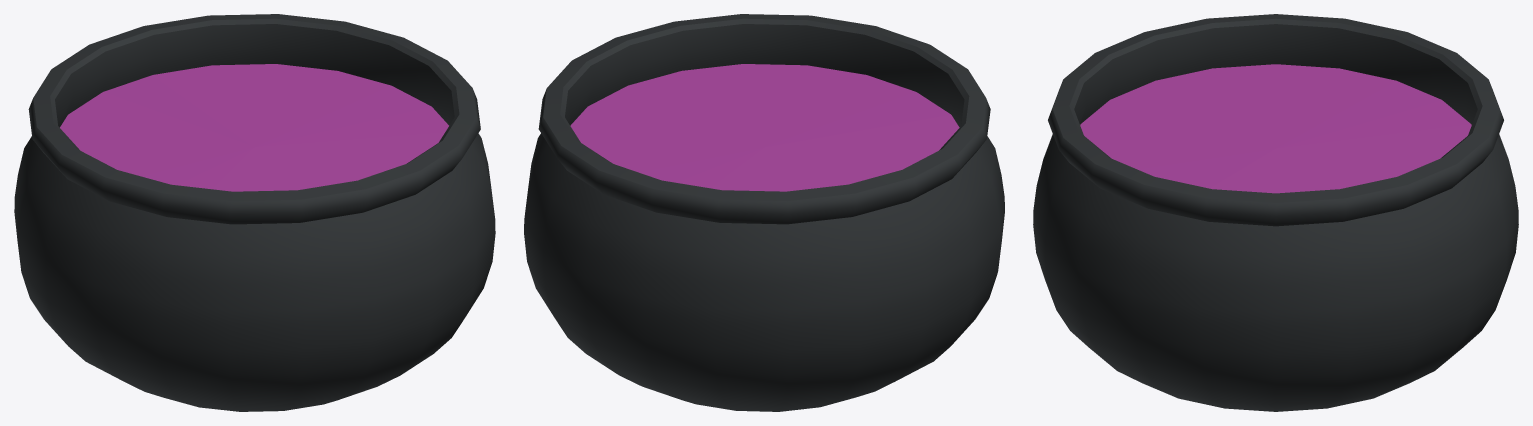
Rendered from Furnace.fbx.
The picture shows the model from 3 angles, left to right: view 1: azimuth 30°, elevation 25°; view 2: azimuth 150°, elevation 25°; view 3: azimuth 270°, elevation 25°; orthographic projection.
Visible parts, largest first — view 1: pSphere12; view 2: pSphere12; view 3: pSphere12.
Boxes of the visible parts, box(x1,y1,x2,y2) form: pSphere12: box(14, 14, 495, 411); pSphere12: box(524, 14, 1004, 411); pSphere12: box(1033, 14, 1518, 411).
Bounding box in the file's own units: 39.41 × 25.21 × 39.41.
